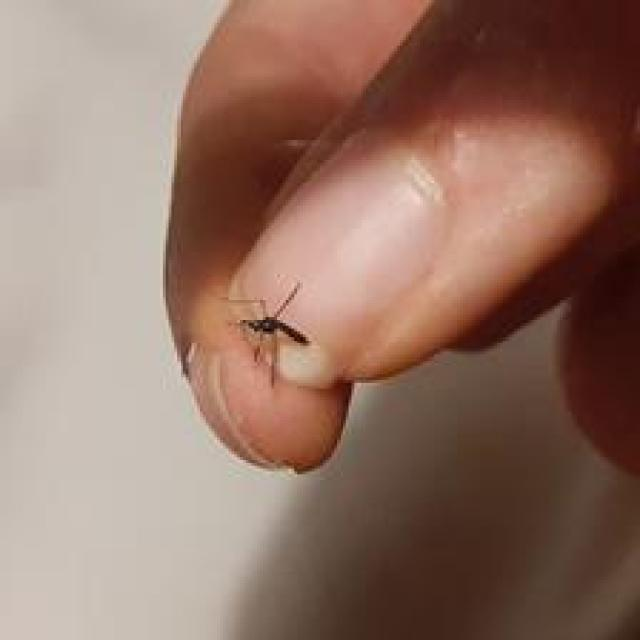Aedes albopictus: (221, 280, 313, 389)
